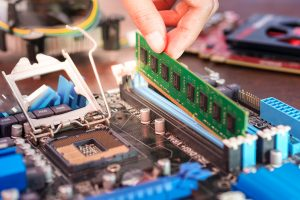ram: (135, 31, 250, 144)
